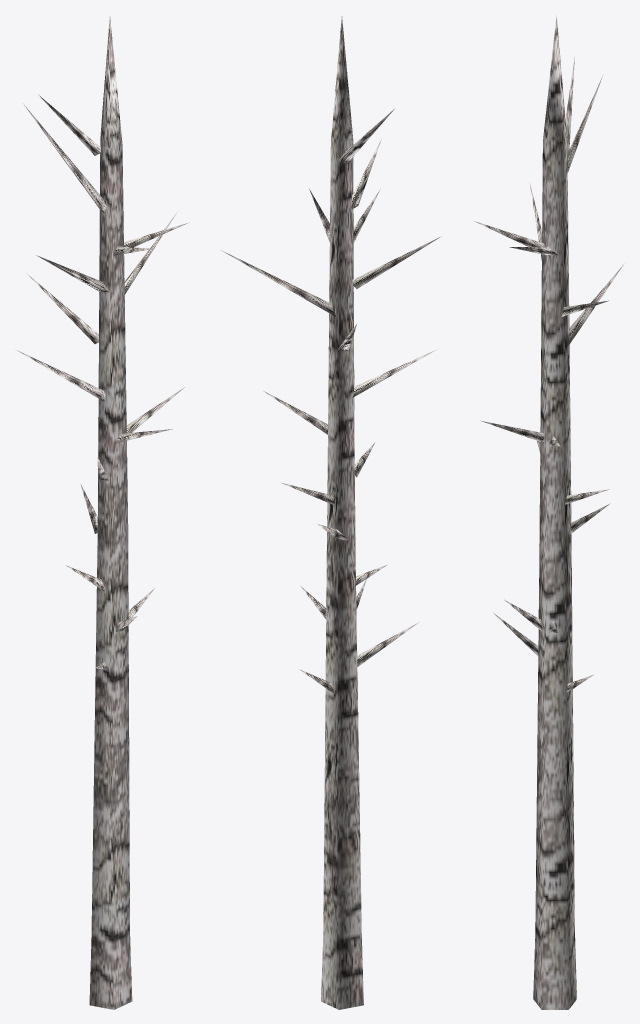
Rendered from Tree06.obj.
The picture shows the model from 3 angles, left to right: view 1: azimuth 30°, elevation 25°; view 2: azimuth 150°, elevation 25°; view 3: azimuth 270°, elevation 25°; orthographic projection.
Visible parts, largest first — view 1: Mesh_0; view 2: Mesh_0; view 3: Mesh_0.
Boxes of the visible parts, left/top/right/bottom form: Mesh_0: left=15, top=15, right=189, bottom=1009; Mesh_0: left=221, top=16, right=441, bottom=1009; Mesh_0: left=474, top=15, right=624, bottom=1009.
Size of the model in its own units: 1.65 by 8.09 by 1.14.
1 material, 1 textured.
